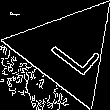L_NW: (36, 22, 98, 78)
